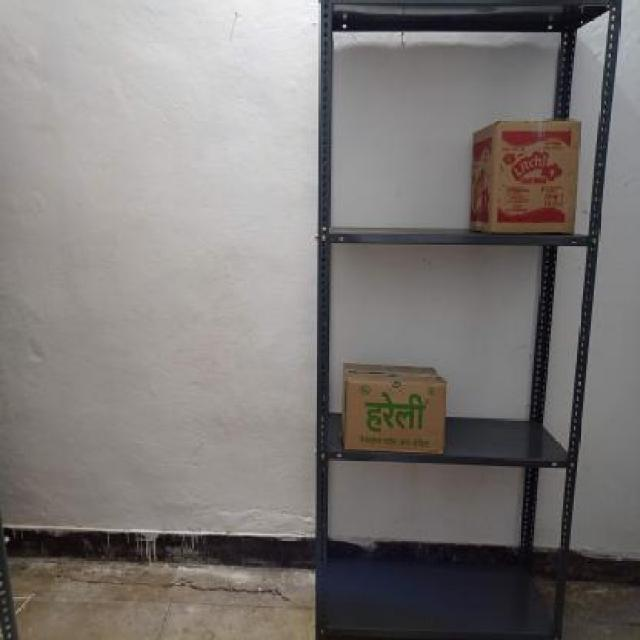box: (488, 120, 576, 234), (342, 374, 449, 454)
